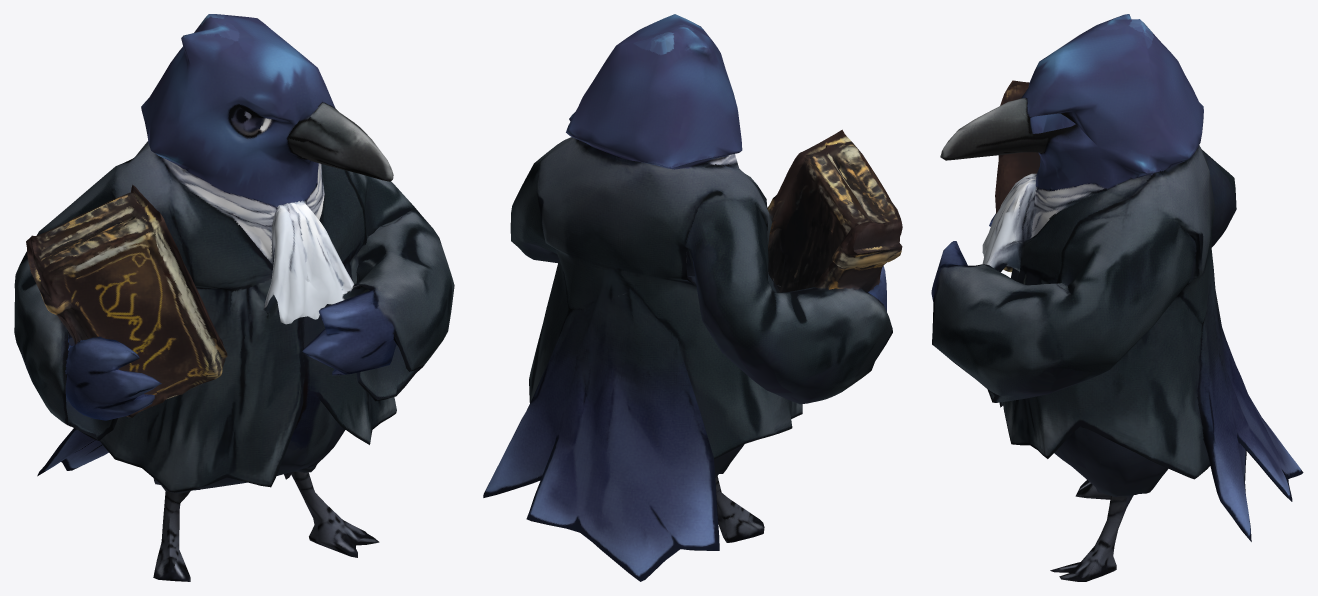
3 views of the same model, side by side, from view 1: azimuth 30°, elevation 25°; view 2: azimuth 150°, elevation 25°; view 3: azimuth 270°, elevation 25° (orthographic). The views are drawn at different scales.
Visible parts, largest first — view 1: world; view 2: world; view 3: world.
Boxes of the visible parts, x1=… form: world: x1=14, y1=14, x2=454, y2=581; world: x1=483, y1=14, x2=902, y2=581; world: x1=931, y1=14, x2=1303, y2=581.
Bounding box in the file's own units: 0.7423 × 0.964 × 0.6377.
1 material, 1 textured.
